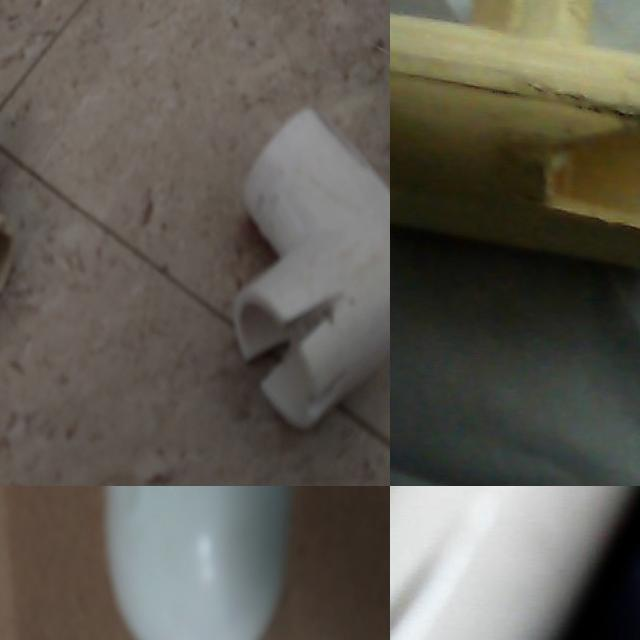Defective: (536, 52, 640, 274), (554, 128, 640, 230), (20, 486, 109, 581), (390, 517, 426, 640), (98, 67, 147, 133)
L Joint: (0, 19, 144, 213)
T Joint: (390, 0, 640, 273), (390, 486, 640, 640)
